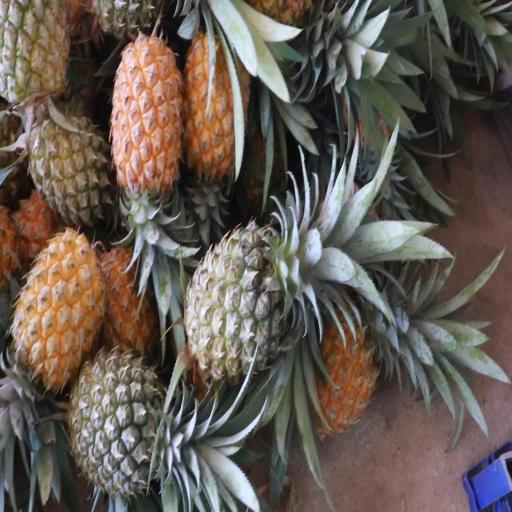Pineapple - v8 v1: (4, 230, 109, 416), (112, 22, 184, 236), (186, 21, 241, 184)
